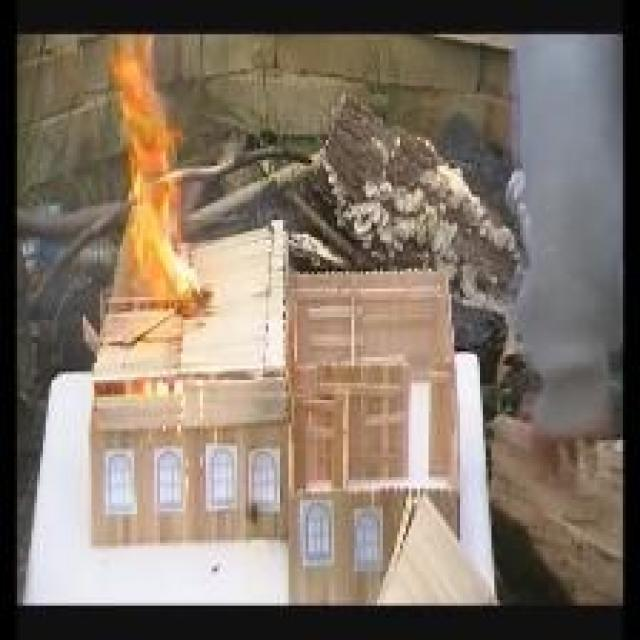Fire: (106, 38, 203, 302)
